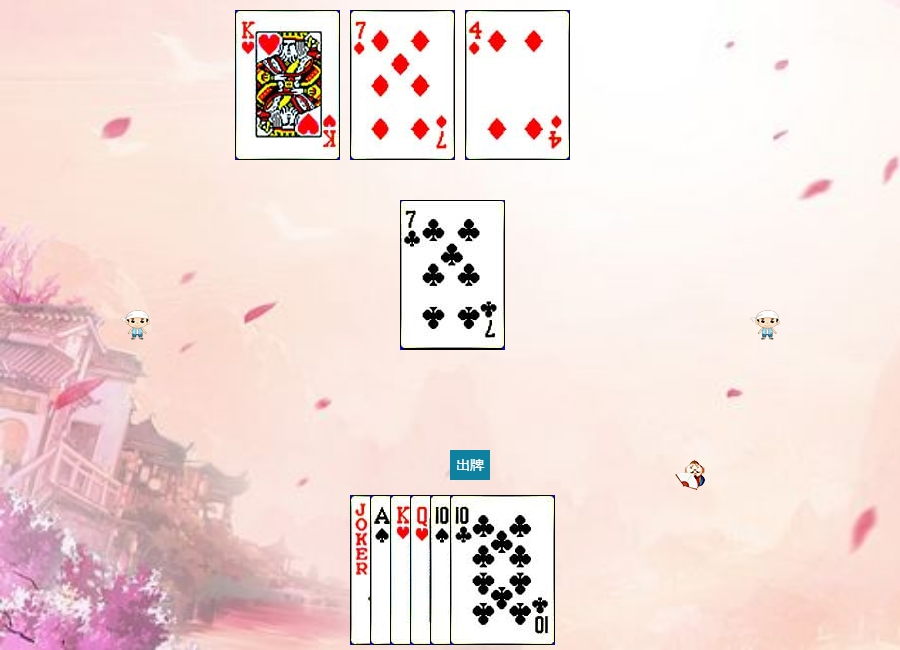10~2: (450, 495, 555, 645)
10~4: (430, 495, 535, 645)
12~3: (410, 495, 515, 645)
13~3: (235, 10, 340, 160), (390, 495, 495, 645)
14~4: (370, 495, 475, 645)
18~4: (350, 495, 455, 645)
4~1: (465, 10, 570, 160)
7~1: (350, 10, 455, 160)
7~2: (400, 200, 505, 350)
